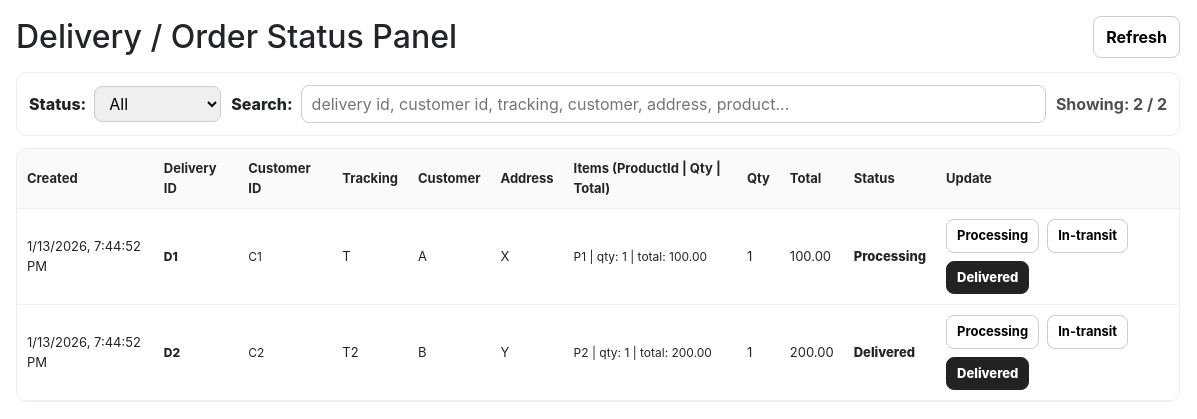
Test case: AdminDeliveriesPage › filters by status
Expected: the text "D1" is shown, [154, 208, 238, 304]
Expected: the text "D2" is shown, [154, 304, 238, 400]
Select "Delivered" in the dropdown showing "All". click: (158, 104)
box: [94, 86, 221, 122]
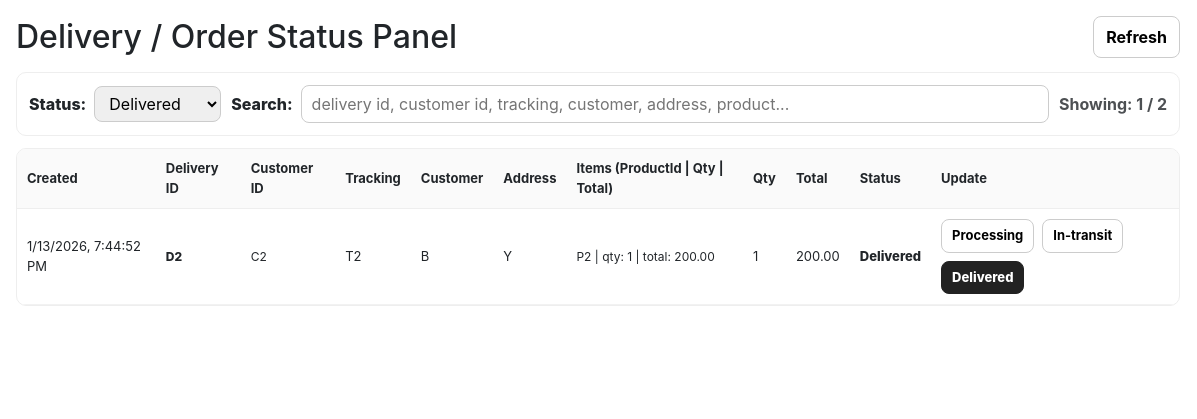
Expected: the text "D2" is shown, [156, 208, 241, 304]
Now the text "D1" is gone
